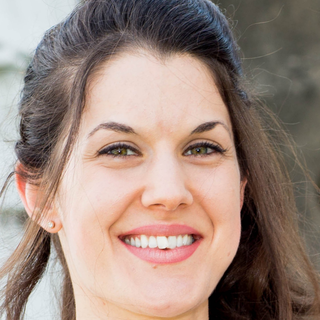eye: (91, 139, 149, 165), (179, 136, 229, 161)
